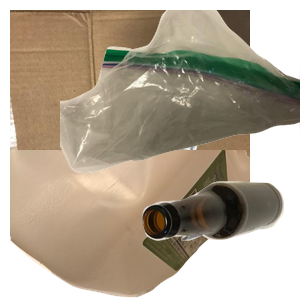cardboard: (10, 10, 250, 190)
glass: (140, 179, 300, 300)
plastic: (10, 150, 250, 300)
trash: (60, 10, 300, 176)
